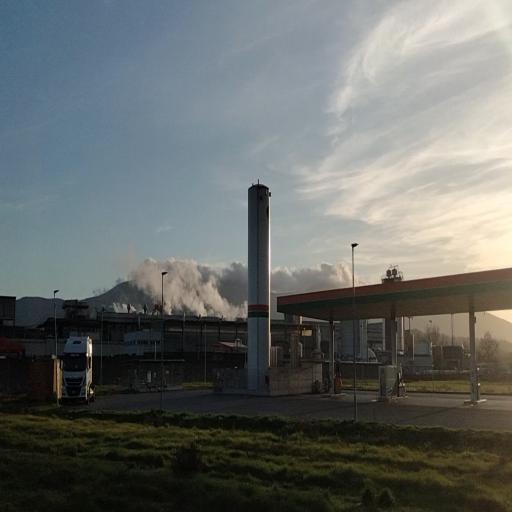leakage: (117, 247, 250, 320), (107, 298, 148, 316)
